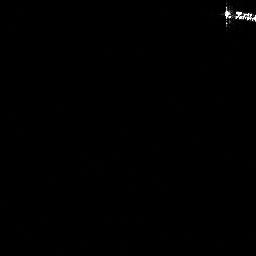ship: (218, 3, 256, 30)
